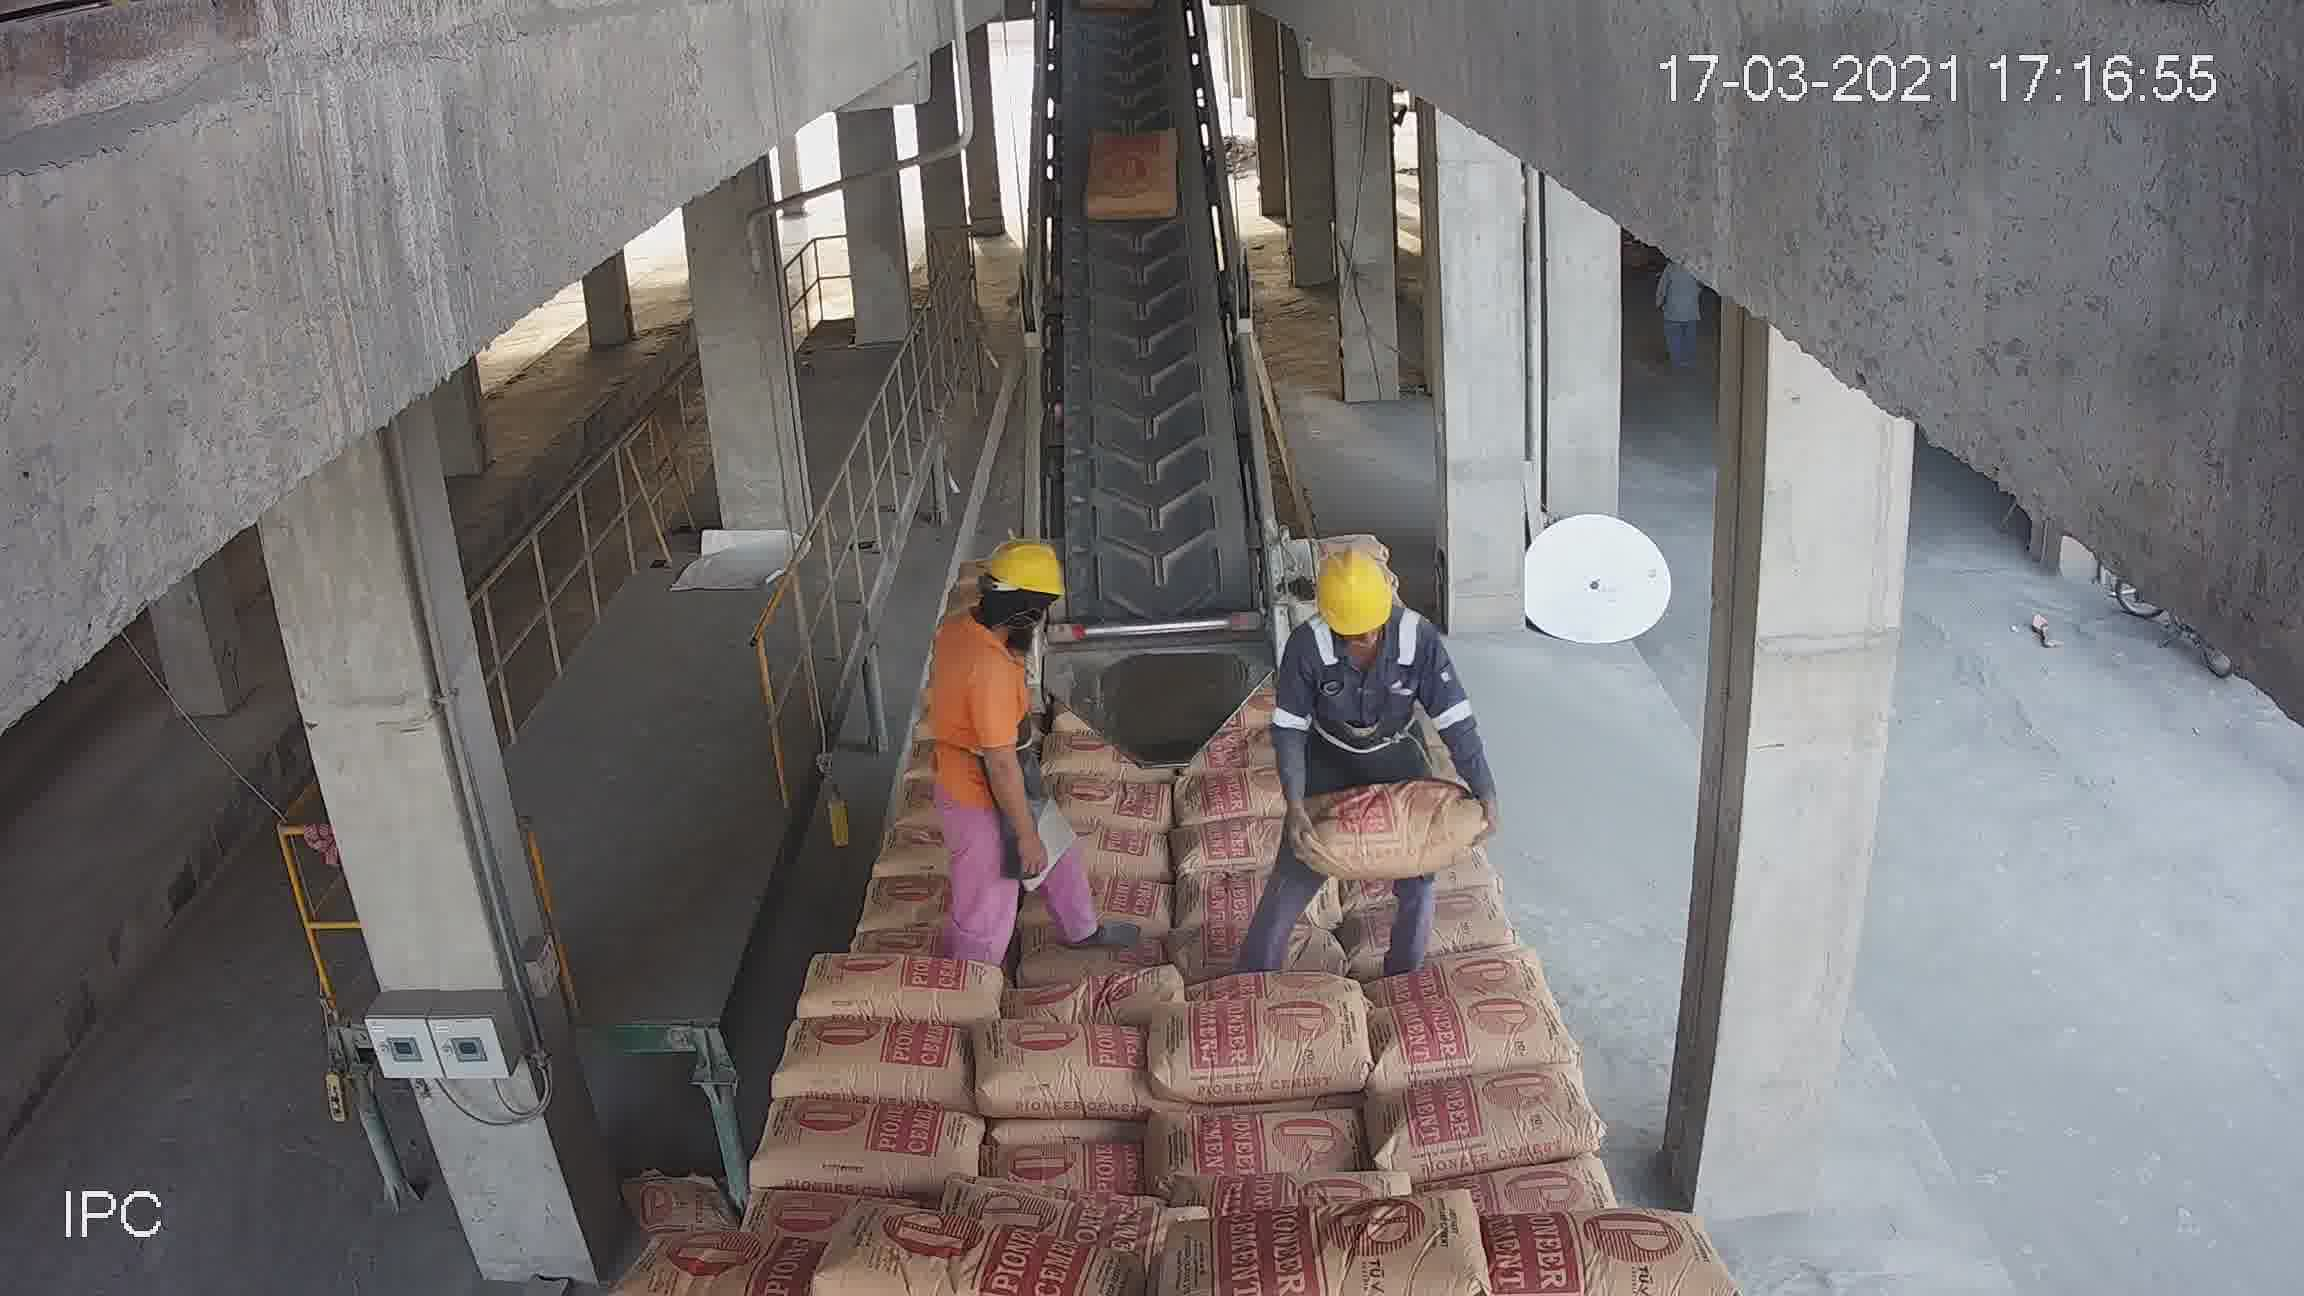bag: (1076, 125, 1185, 215)
bag_h: (1195, 1193, 1489, 1294), (1154, 986, 1389, 1106), (821, 1211, 1139, 1294), (1378, 1079, 1589, 1193), (1449, 1206, 1704, 1294), (752, 1105, 984, 1196), (976, 1011, 1154, 1127), (1287, 775, 1487, 867), (1370, 1002, 1578, 1090), (1160, 1109, 1366, 1196), (771, 1024, 976, 1108), (1366, 942, 1562, 1021), (1340, 886, 1513, 972), (799, 953, 992, 1024), (642, 1231, 840, 1294), (1002, 956, 1184, 1024), (1040, 812, 1196, 881), (991, 1144, 1158, 1201), (1049, 771, 1180, 839), (1169, 813, 1287, 880), (1079, 866, 1180, 938), (851, 870, 957, 935), (1177, 766, 1287, 818), (1310, 530, 1389, 559)
belt: (1021, 40, 1272, 745)
